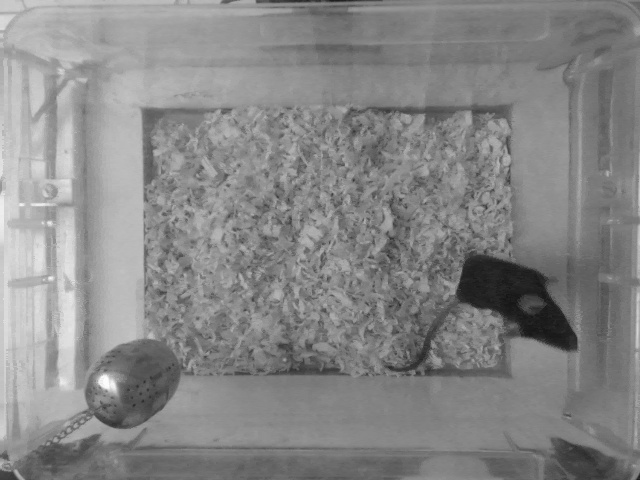mice: (380, 250, 579, 380)
